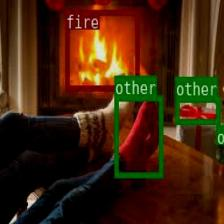fire: (64, 9, 139, 90)
